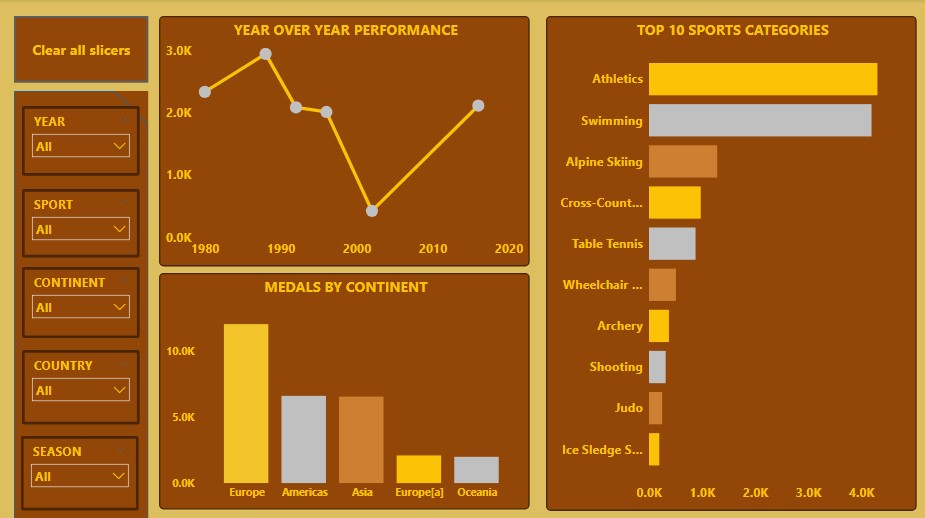

The page's visual inventory and layout, read from the dashboard file:
{"tool":"powerbi","page":{"name":"TREND ANALYSIS","canvas":[1400,800],"ordinal":1},"visuals":[{"type":"lineChart","title":"YEAR OVER YEAR PERFORMANCE","fields":{"Y":["My_DAX.Total_Medals"],"Category":["Games_Year_Table.games_year"]},"box":[244.6,25,558.5,377.4],"z":0},{"type":"actionButton","box":[25,25,202.2,100.1],"z":1000},{"type":"clusteredBarChart","title":"TOP 10 SPORTS CATEGORIES","fields":{"Category":["Paralympics.sport"],"Y":["My_DAX.Total_Medals"]},"box":[826.1,25,558.5,745.3],"z":2000},{"type":"clusteredColumnChart","title":"MEDALS BY CONTINENT","fields":{"Category":["Paralympics.games_continent"],"Y":["My_DAX.Total_Medals"]},"box":[244.6,412.1,558.5,356.3],"z":3000},{"type":"slicer","fields":{"Values":["Paralympics.games_country"]},"box":[38.4,529.5,177.2,111.6],"z":3000,"group":"g1"},{"type":"shape","box":[25,138.7,202.2,645.1],"z":4000},{"type":"slicer","fields":{"Values":["Paralympics.sport"]},"box":[38.4,286.6,177.2,102.9],"z":4000,"group":"g1"},{"type":"group","id":"g1","title":"Group 1","box":[36.6,161.8,179.1,608.5],"z":5000},{"type":"slicer","fields":{"Values":["Games_Year_Table.games_year"]},"box":[38.4,161.8,177.2,105.1],"z":5000,"group":"g1"},{"type":"slicer","fields":{"Values":["Paralympics.games_continent"]},"box":[38.4,404.8,177.2,107.3],"z":6000,"group":"g1"},{"type":"slicer","fields":{"Values":["Paralympics.games_season"]},"box":[36.6,658.7,177.2,111.6],"z":7000,"group":"g1"}]}

Visuals, with their boxes in screenshot pixels (x1, y1, x2, y2), scaled from the page's 1400x800 canvas onto the 925x518 screenshot:
"YEAR OVER YEAR PERFORMANCE" lineChart: bbox=[162, 16, 531, 261]
actionButton: bbox=[17, 16, 150, 81]
"TOP 10 SPORTS CATEGORIES" clusteredBarChart: bbox=[546, 16, 915, 499]
"MEDALS BY CONTINENT" clusteredColumnChart: bbox=[162, 267, 531, 498]
slicer - Paralympics.games_country: bbox=[25, 343, 142, 415]
shape: bbox=[17, 90, 150, 508]
slicer - Paralympics.sport: bbox=[25, 186, 142, 252]
"Group 1" group: bbox=[24, 105, 143, 499]
slicer - Games_Year_Table.games_year: bbox=[25, 105, 142, 173]
slicer - Paralympics.games_continent: bbox=[25, 262, 142, 332]
slicer - Paralympics.games_season: bbox=[24, 427, 141, 499]
